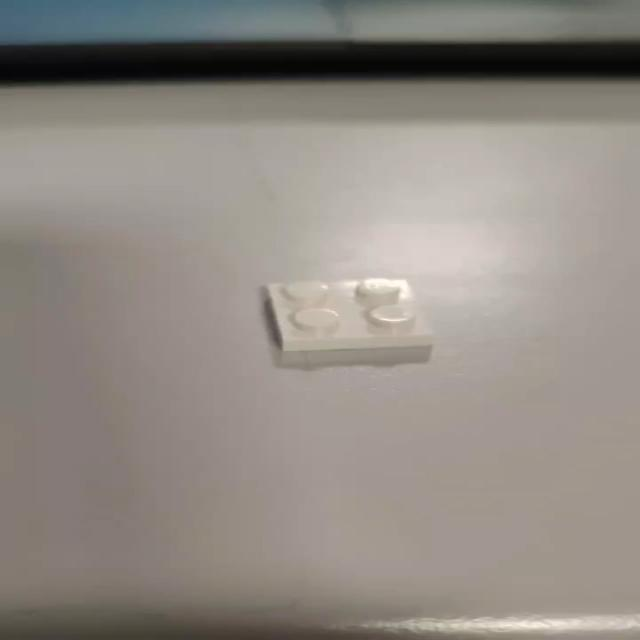C2x2x0: (260, 278, 433, 356)
